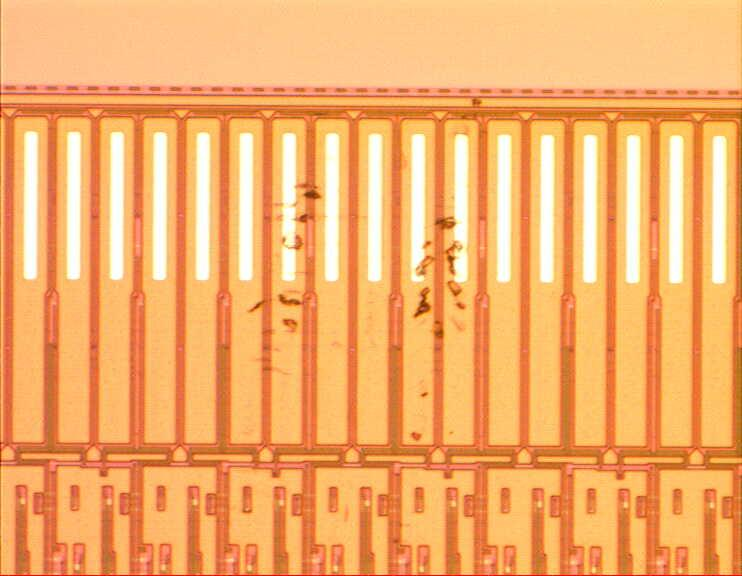SCRATCH: (242, 180, 469, 450)
